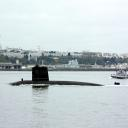submarine: (11, 68, 120, 87)
